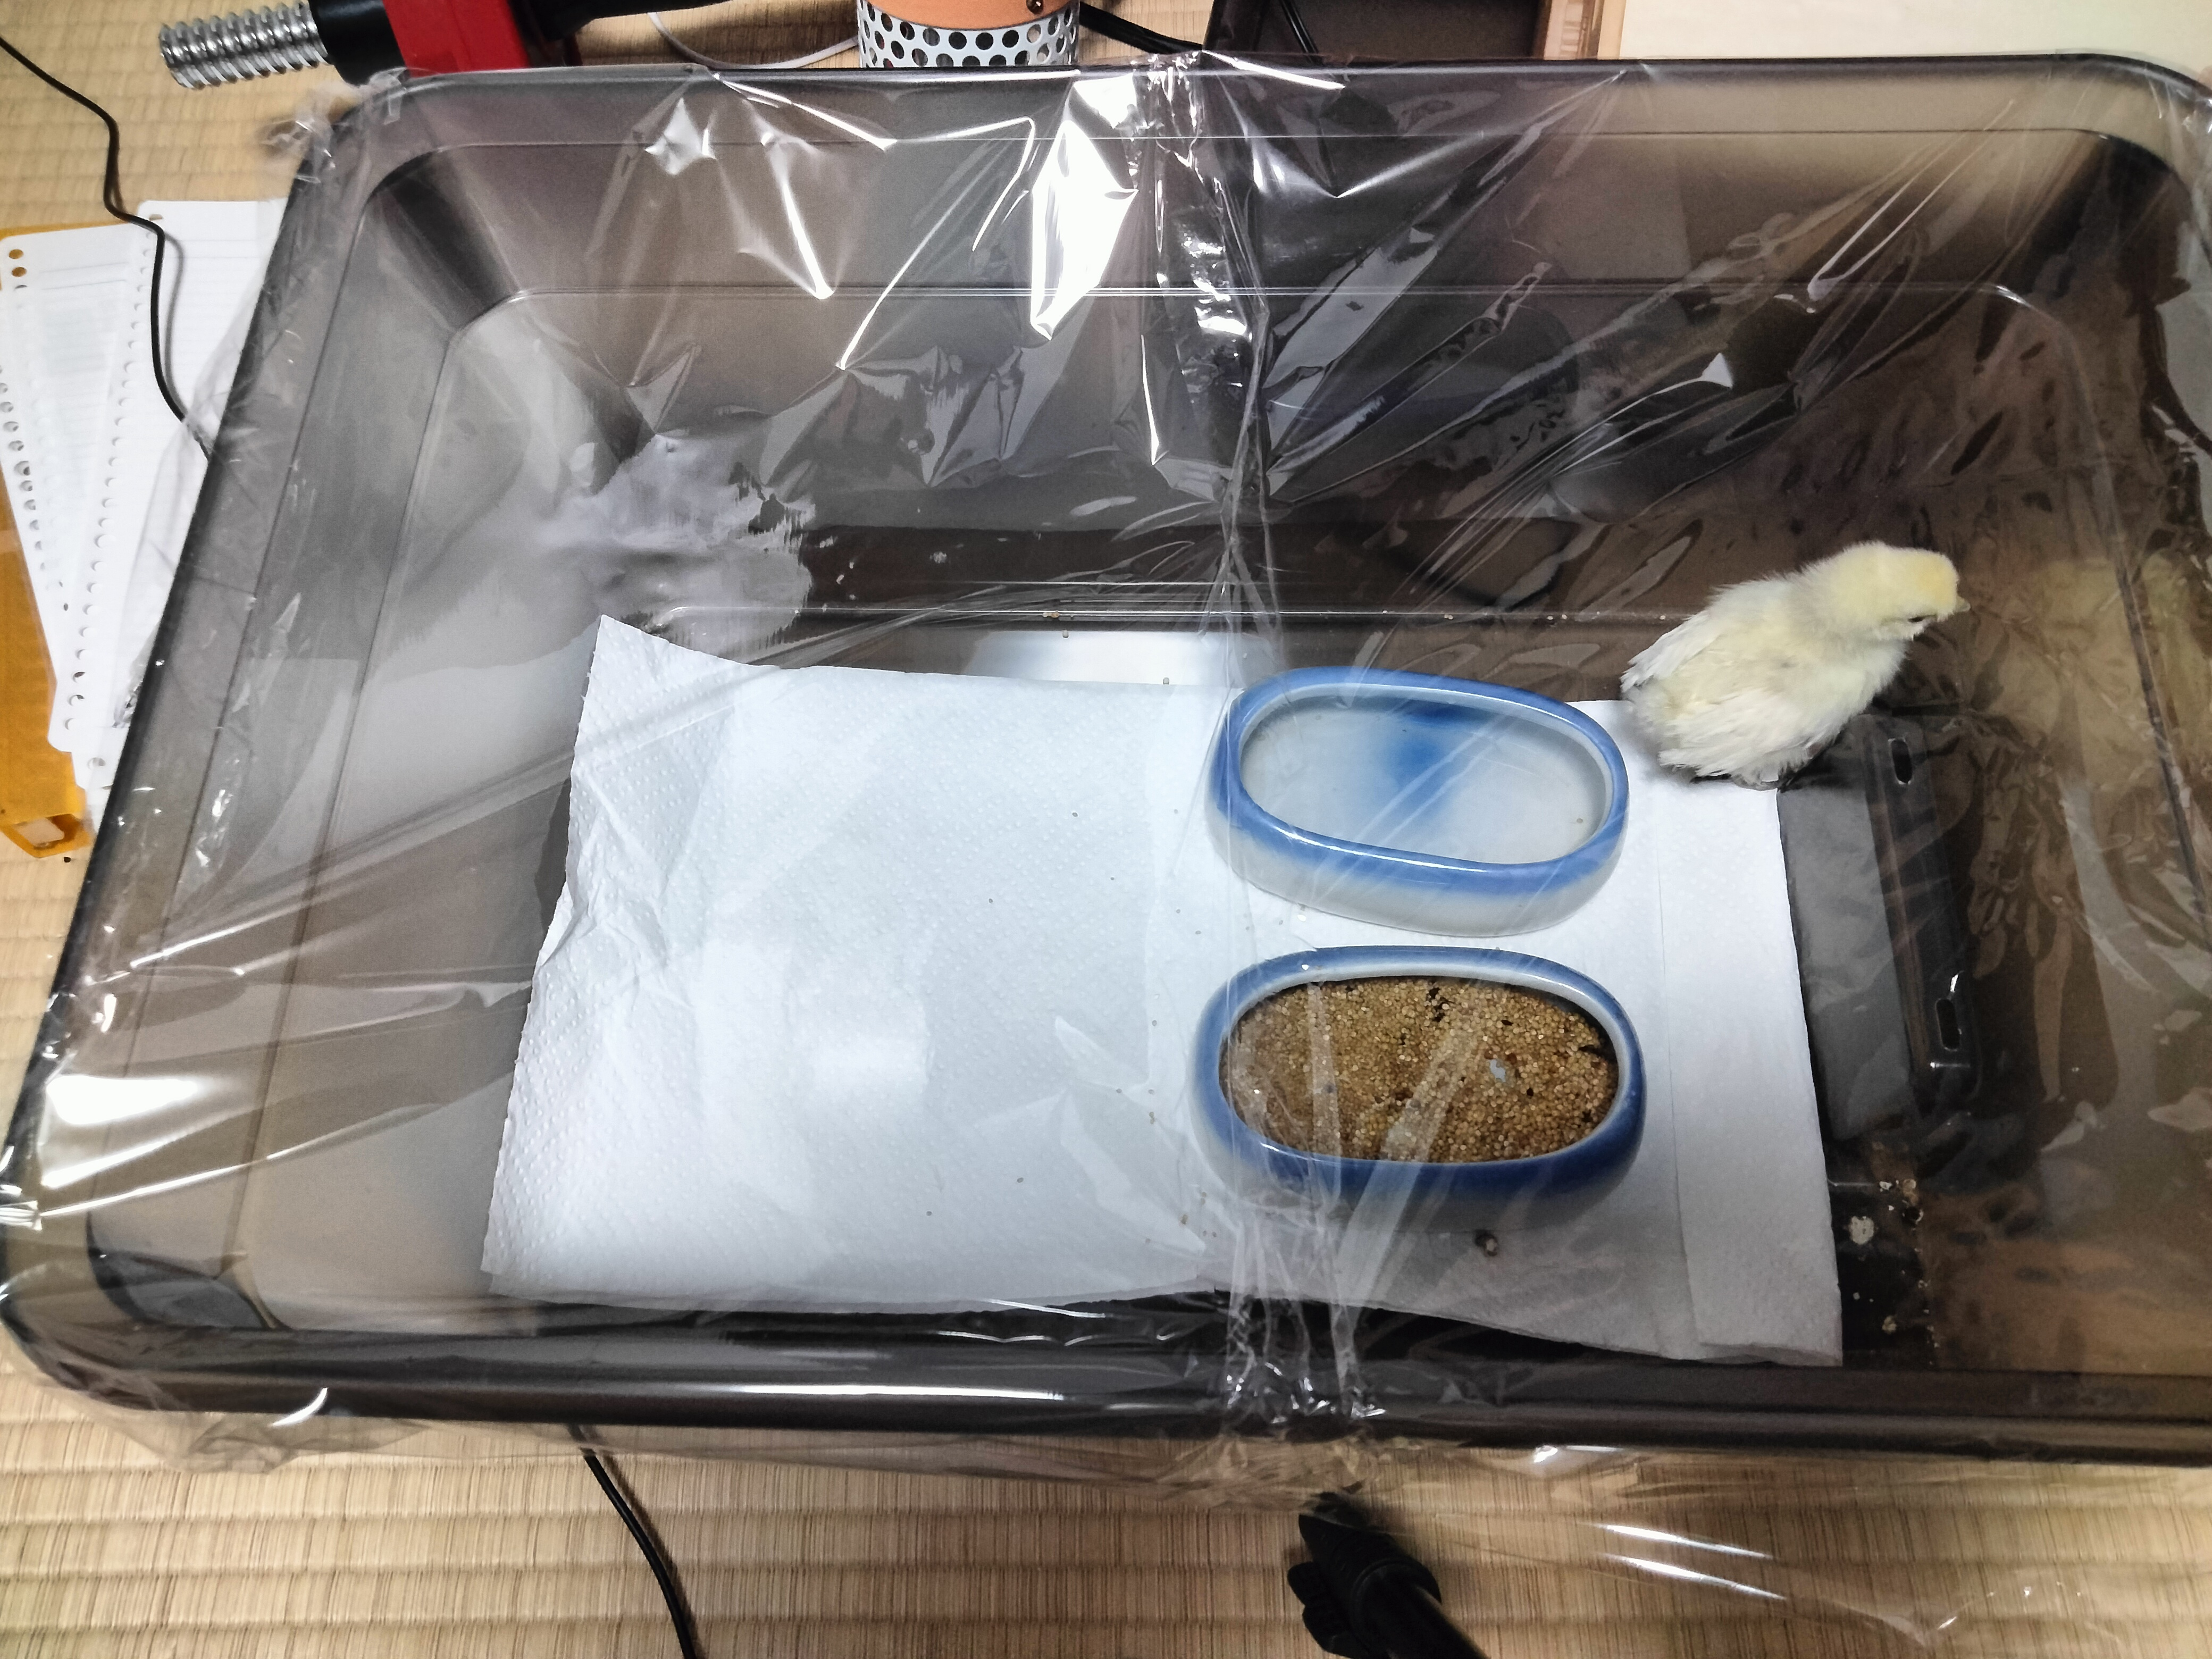shiro: (1604, 509, 2000, 824)
